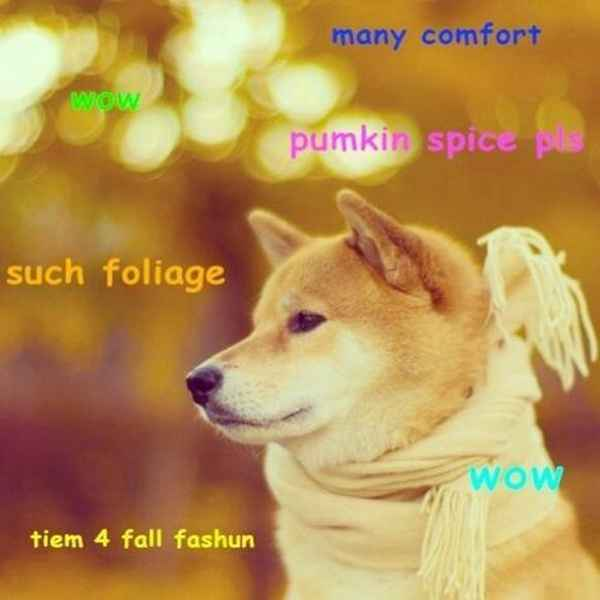doge: (186, 184, 519, 459)
